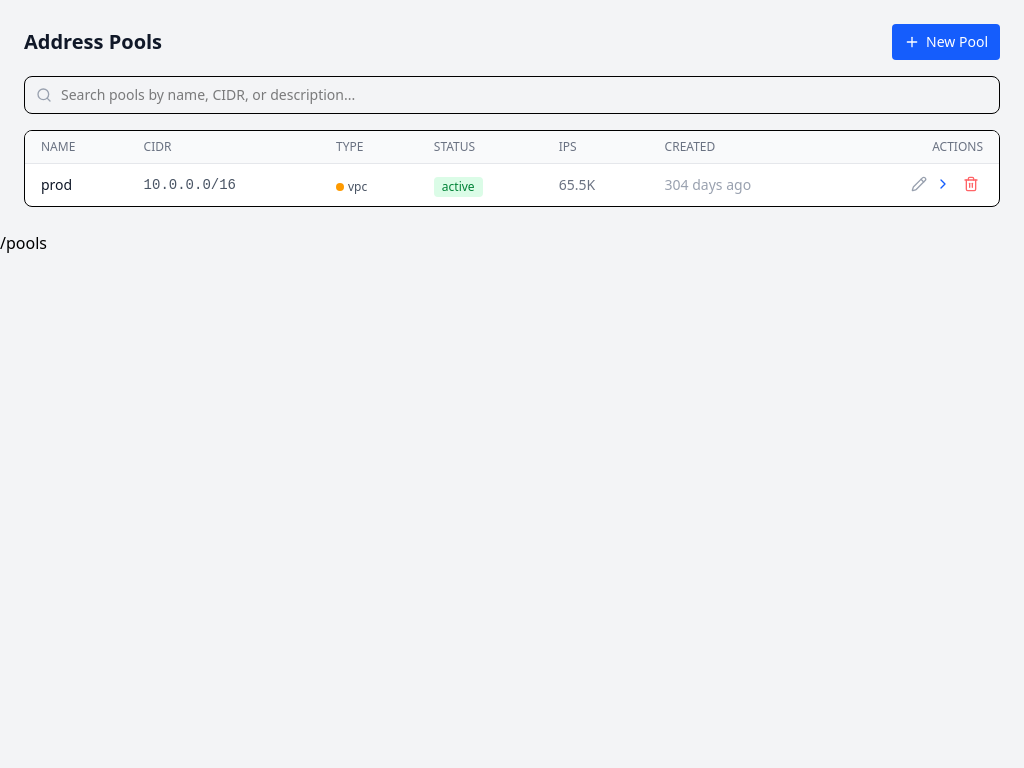
it: PoolsPage validation › renders edit server errors inline and as a toast
The width and height of the screenshot is (1024, 768).
Click the button titled "Edit pool". click: [919, 184]
box: [907,172,931,196]
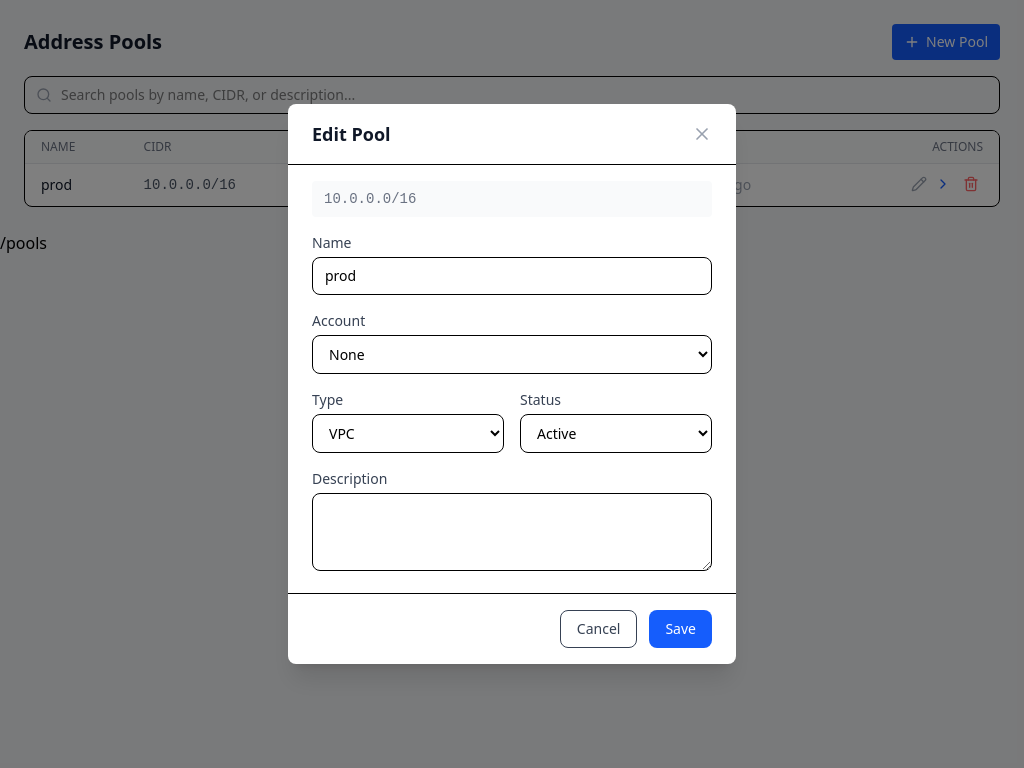
Replace the text in the field labelled "Name" with "prod-renamed". click: [512, 276]
box: [312,257,712,295]
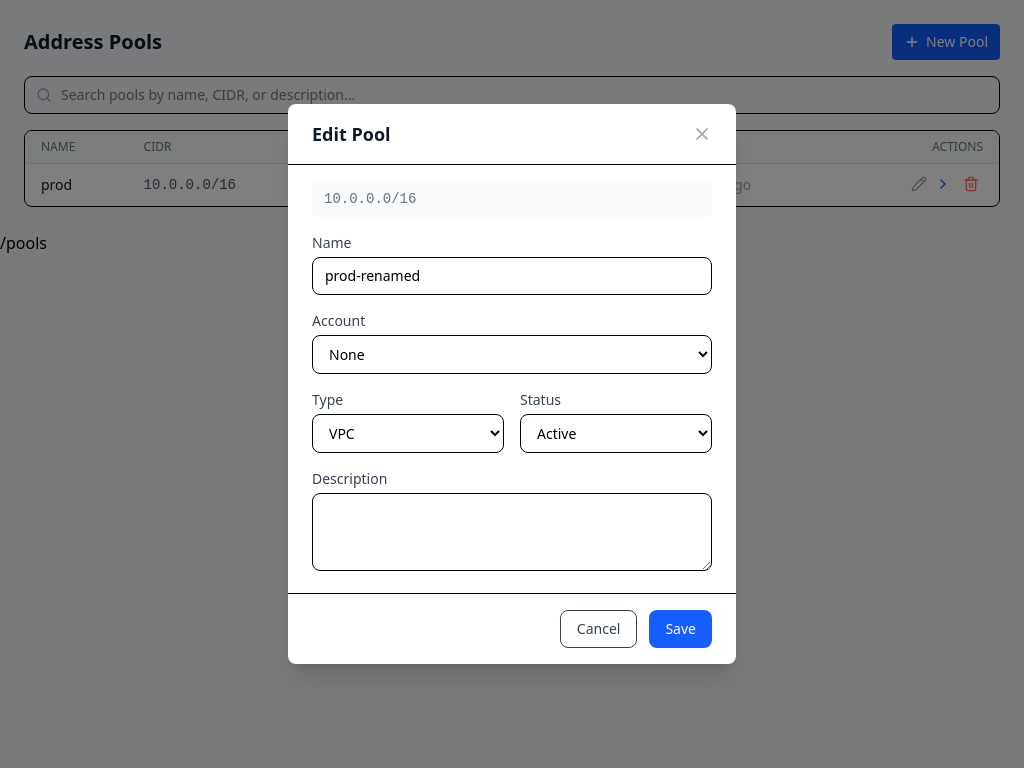
Click the button "Save". click: [681, 629]
box: [649,610,712,648]
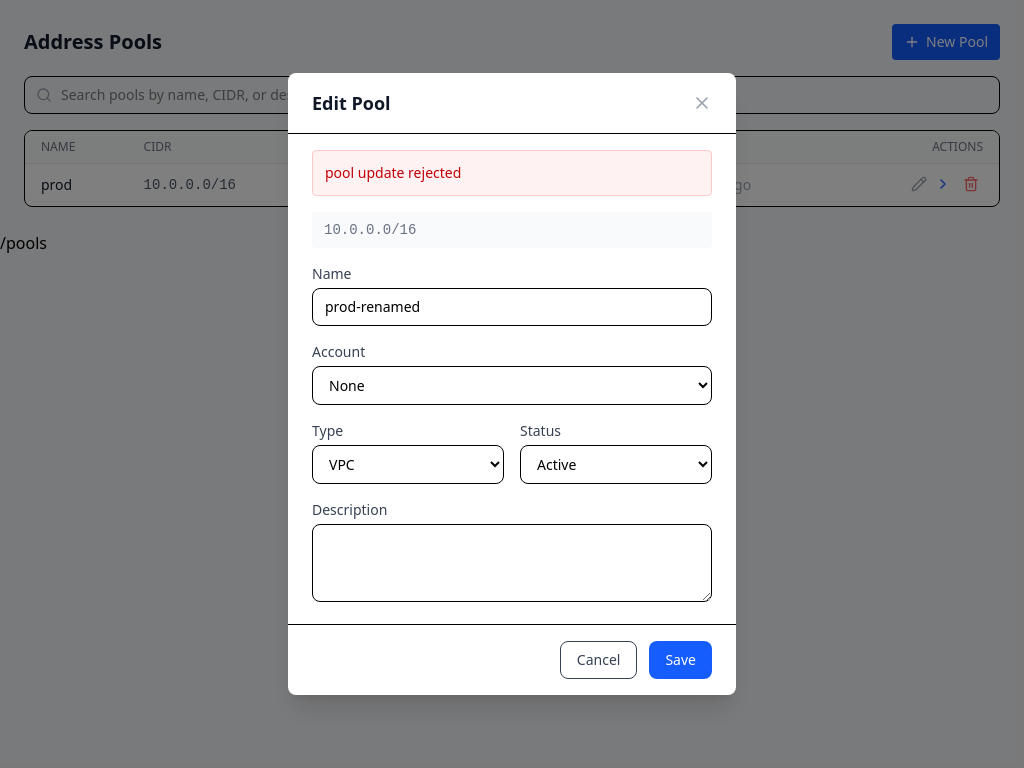
Check: the message reads "pool update rejected", box [325,163,461,182]
